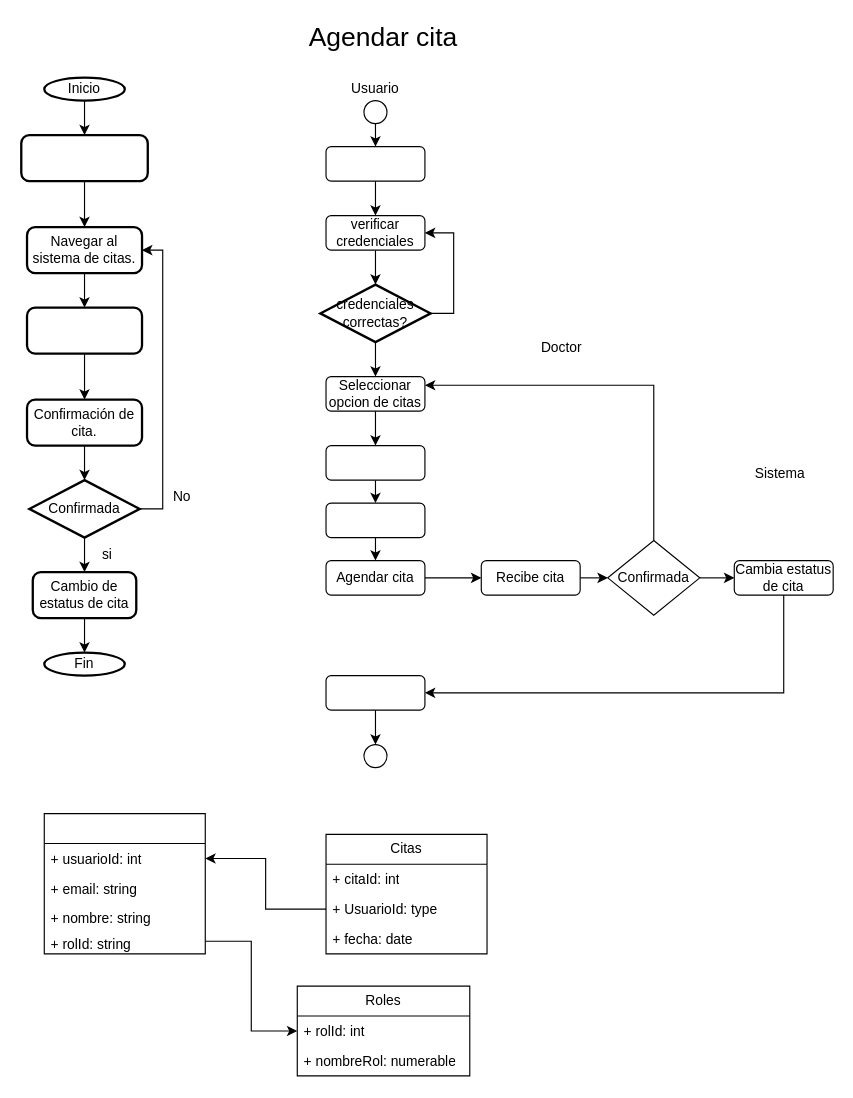
The diagram is 853 pixels wide and 1098 high, and some of its shapes have lost their labels. Here are the shapes that lost their labels. From the top down, the box of each, then its label:
(20, 133, 148, 182): Inicio de sesión del paciente.
(325, 145, 425, 181): Iniciar sesion
(25, 306, 143, 354): Seleccionar médico y fecha.
(325, 444, 425, 480): Seleccionar medico
(325, 502, 425, 538): Seleccionar fecha
(325, 674, 425, 710): Recibe status
(43, 812, 205, 954): Usuarios
